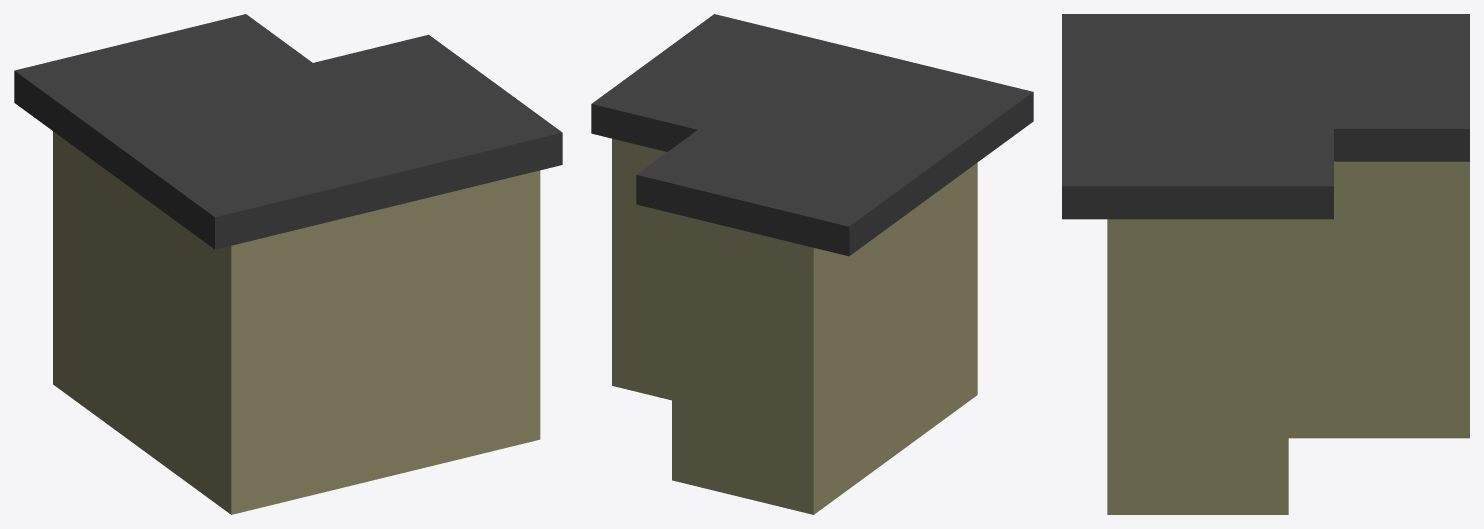
File: Bench Corner.fbx
3 views of the same model, side by side, from view 1: azimuth 30°, elevation 25°; view 2: azimuth 150°, elevation 25°; view 3: azimuth 270°, elevation 25° (orthographic). The views are drawn at different scales.
Parts seen in each view (by area): view 1: Bench Corner; view 2: Bench Corner; view 3: Bench Corner.
Part boxes in pixels (box(x1,y1,x2,y2)): Bench Corner: box(14, 14, 562, 514); Bench Corner: box(591, 14, 1033, 514); Bench Corner: box(1062, 14, 1469, 514).
Bounding box in the file's own units: 450 × 400 × 450.
